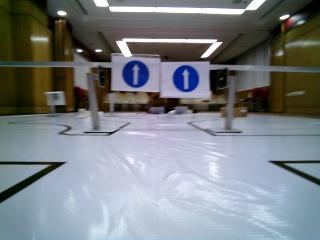straight: (111, 54, 160, 92), (163, 60, 208, 99)
